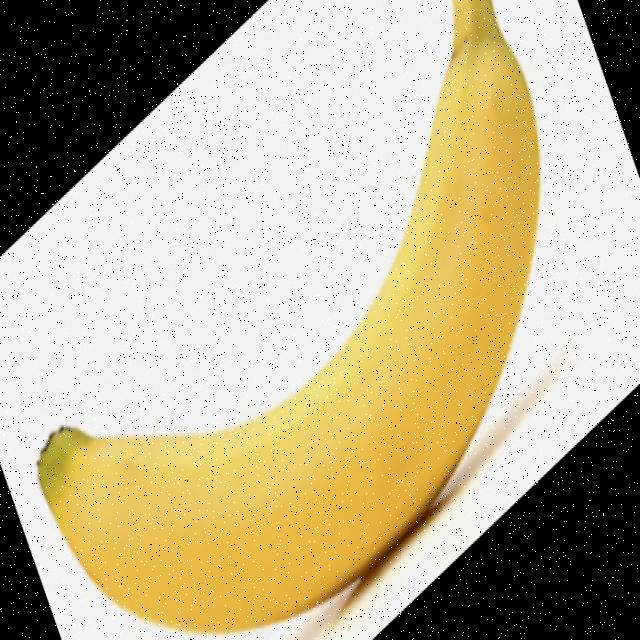god quality banana: (38, 2, 541, 632)
